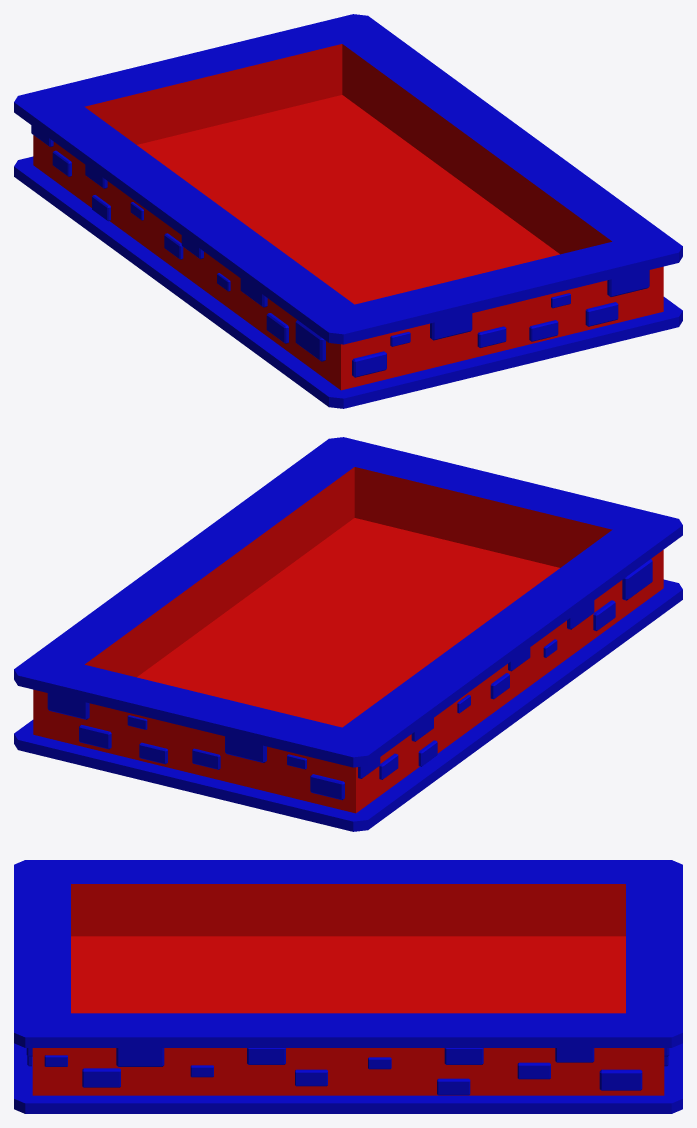
The model's file is low_poly_fire_pit.fbx.
3 renders of one model, top to bottom at view 1: azimuth 30°, elevation 25°; view 2: azimuth 150°, elevation 25°; view 3: azimuth 270°, elevation 25°, orthographic. The views are drawn at different scales.
Visible parts, largest first — view 1: low_poly_fire_pit; view 2: low_poly_fire_pit; view 3: low_poly_fire_pit.
Boxes of the visible parts, left/top/right/bottom form: low_poly_fire_pit: left=14, top=14, right=682, bottom=408; low_poly_fire_pit: left=14, top=437, right=682, bottom=831; low_poly_fire_pit: left=14, top=860, right=682, bottom=1113.
Size of the model in its own units: 259 by 52.07 by 412.
